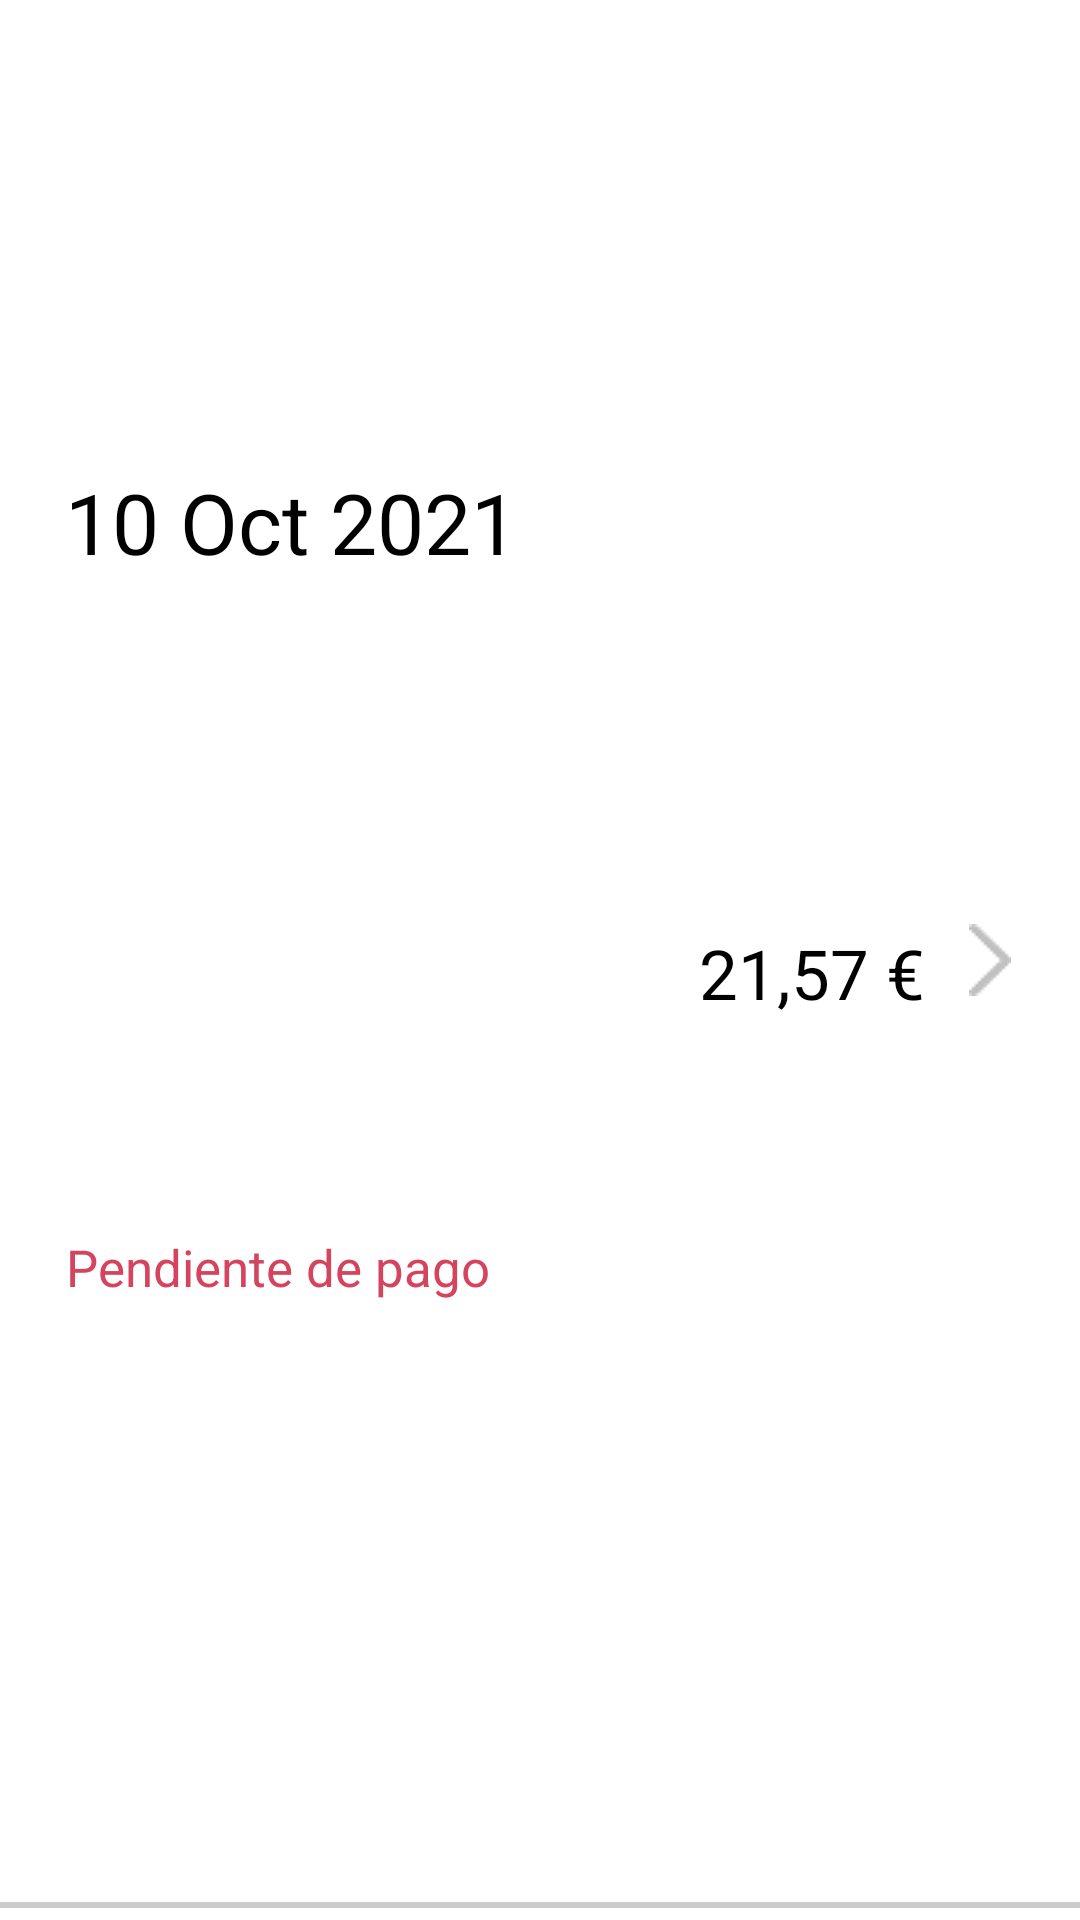

Screen size 1080*1920. Icon name, then its center in pixels as (x=x, y=y):
flechagris: (x=990, y=960)
